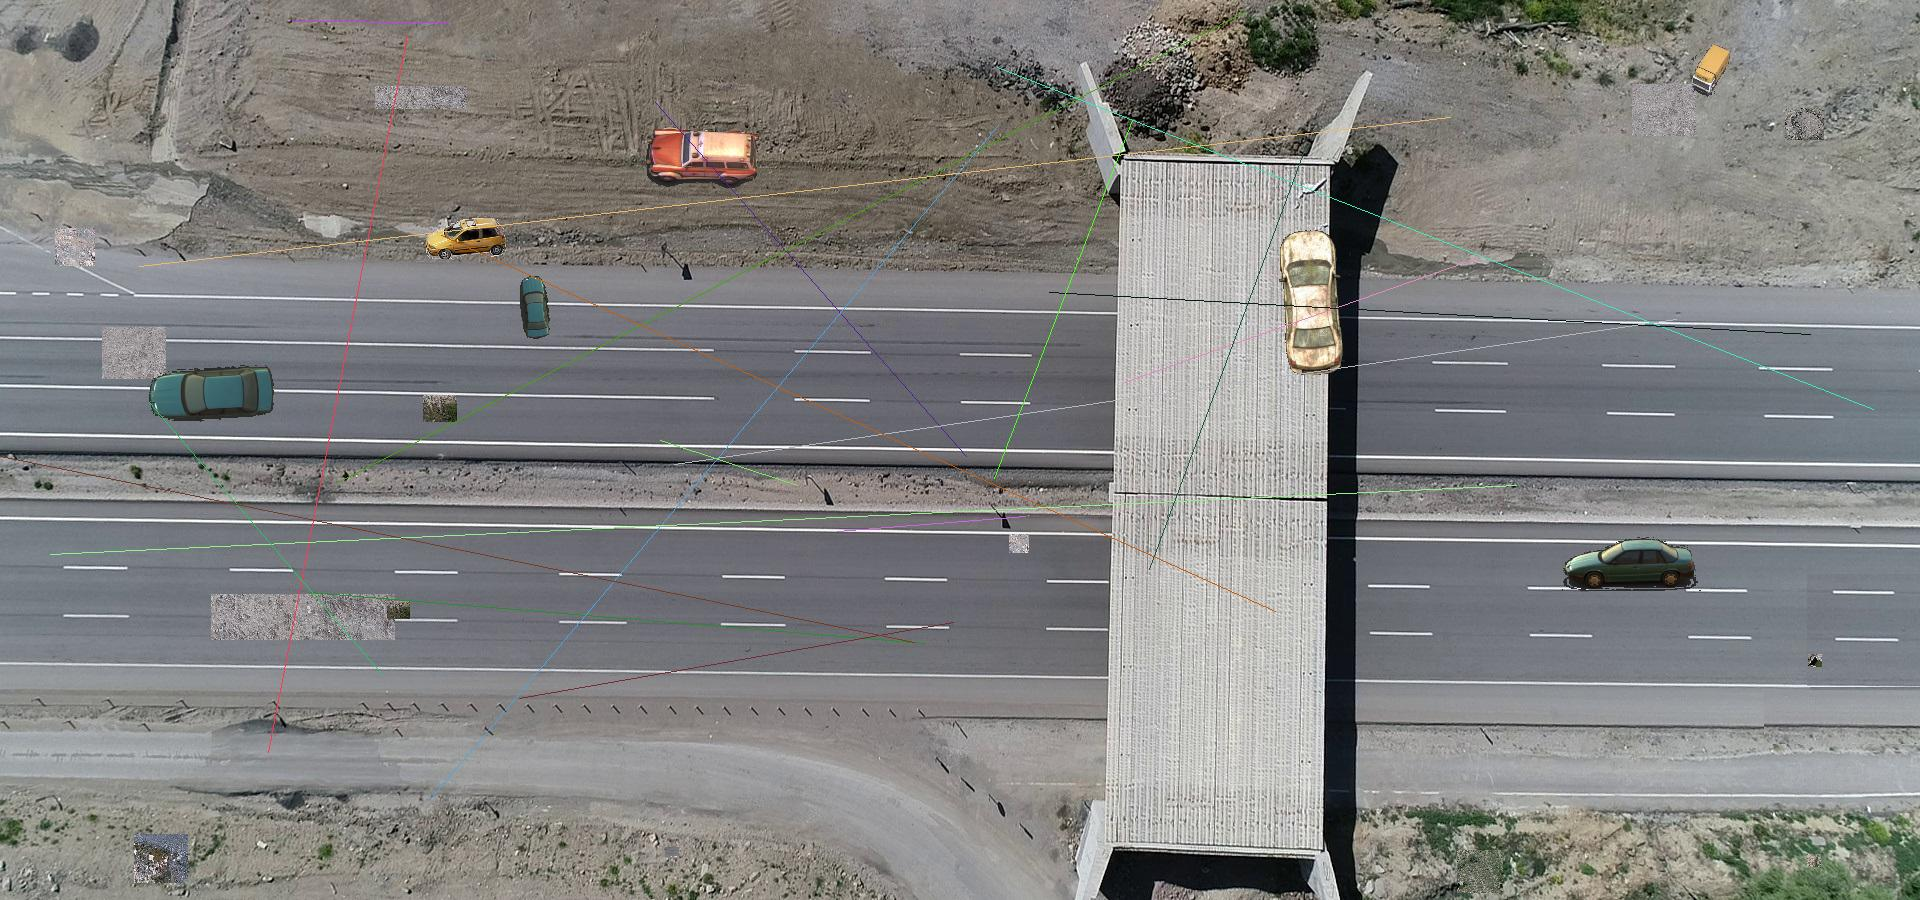arac: (1277, 228, 1344, 376), (147, 365, 278, 424), (1562, 538, 1701, 591), (647, 125, 759, 189), (426, 218, 509, 260), (1691, 43, 1731, 97), (519, 276, 552, 339)
